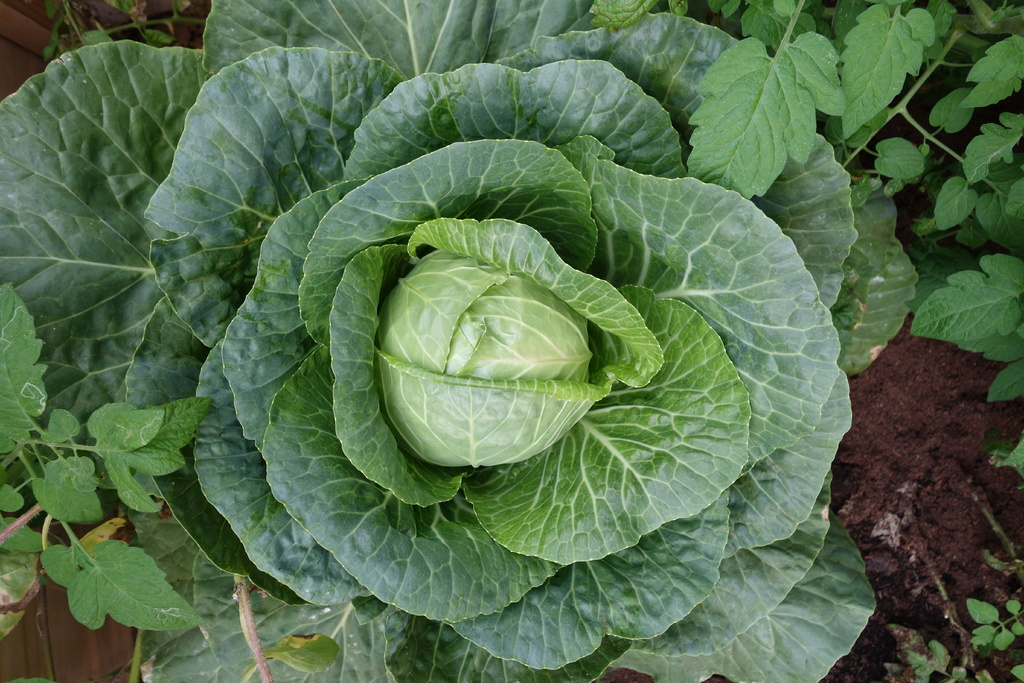Cabbage: (0, 0, 918, 682), (373, 217, 661, 469)
